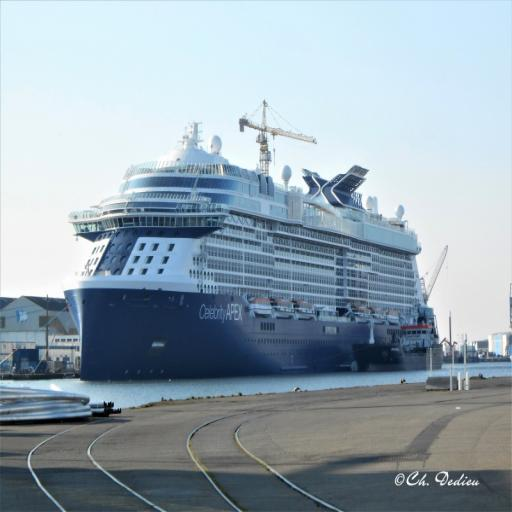cruises: (63, 106, 454, 374)
